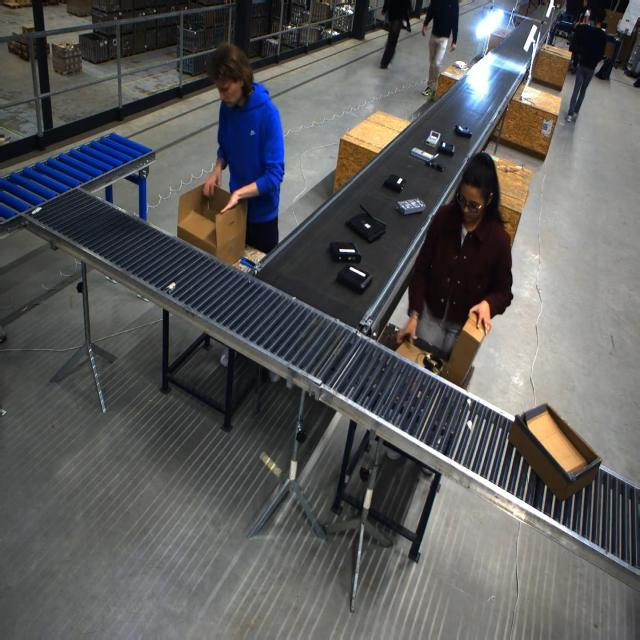box: (506, 403, 601, 501), (392, 311, 487, 388), (176, 182, 248, 267), (393, 338, 443, 380)
product: (344, 205, 385, 243), (336, 264, 372, 294), (329, 241, 360, 264), (395, 198, 424, 215), (382, 174, 406, 193), (411, 147, 438, 163), (426, 130, 442, 147), (437, 141, 455, 156), (454, 124, 472, 138), (425, 160, 445, 171)
